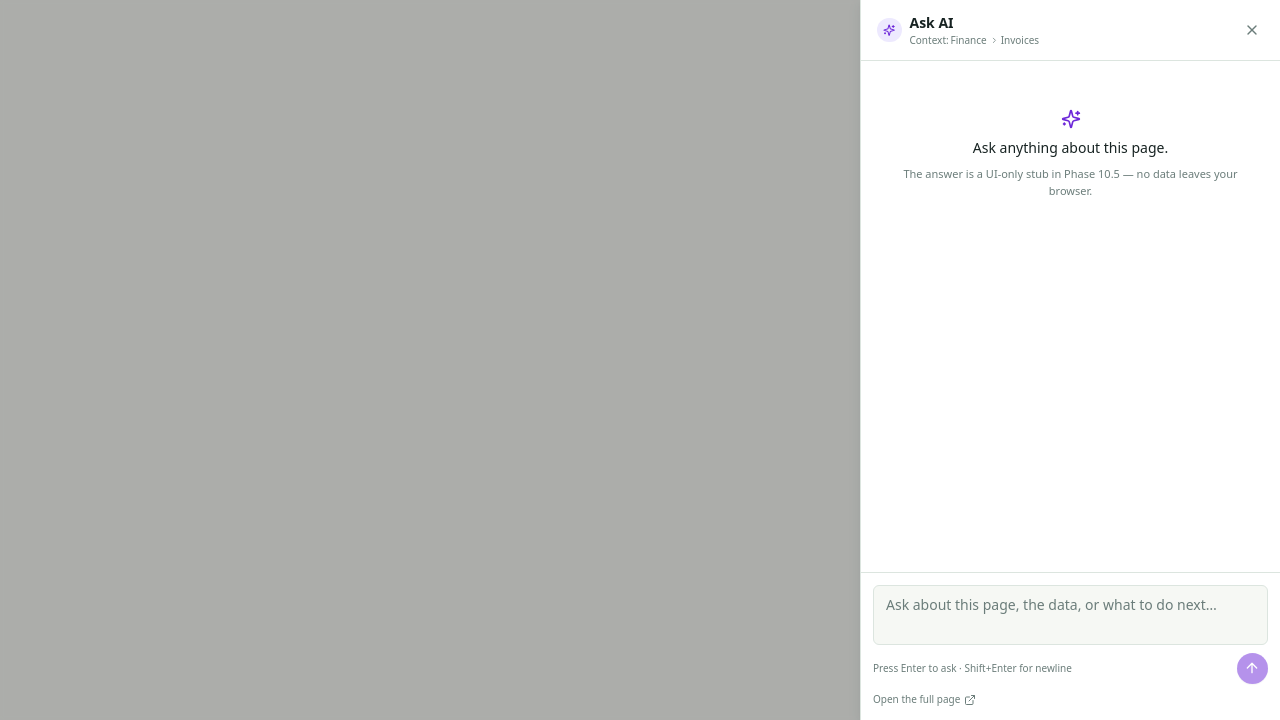
Test: AskAiPanel › streams the answer into ask-ai-answer when the user submits a question
In the text box with test id "ask-ai-input": coordinates (1070, 614) [873, 584, 1268, 644], type "test question"
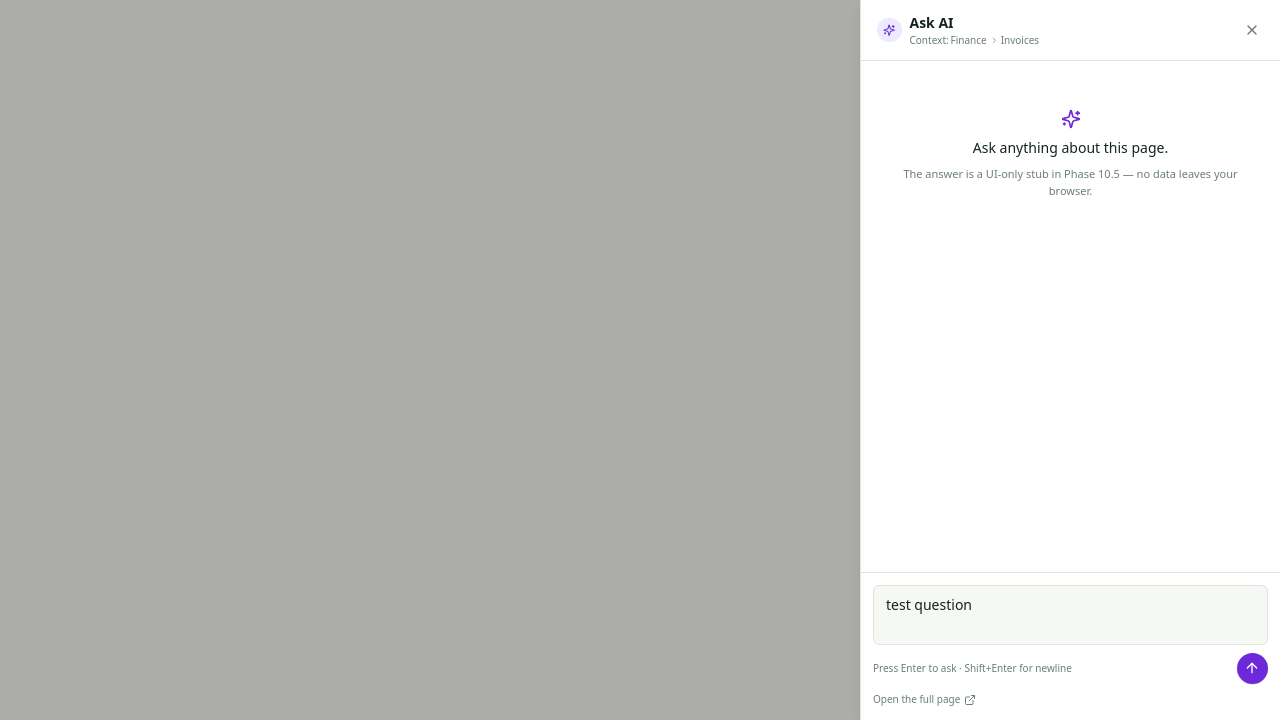
Click the button with test id "ask-ai-submit": coordinates (1252, 668) [1236, 652, 1268, 684]
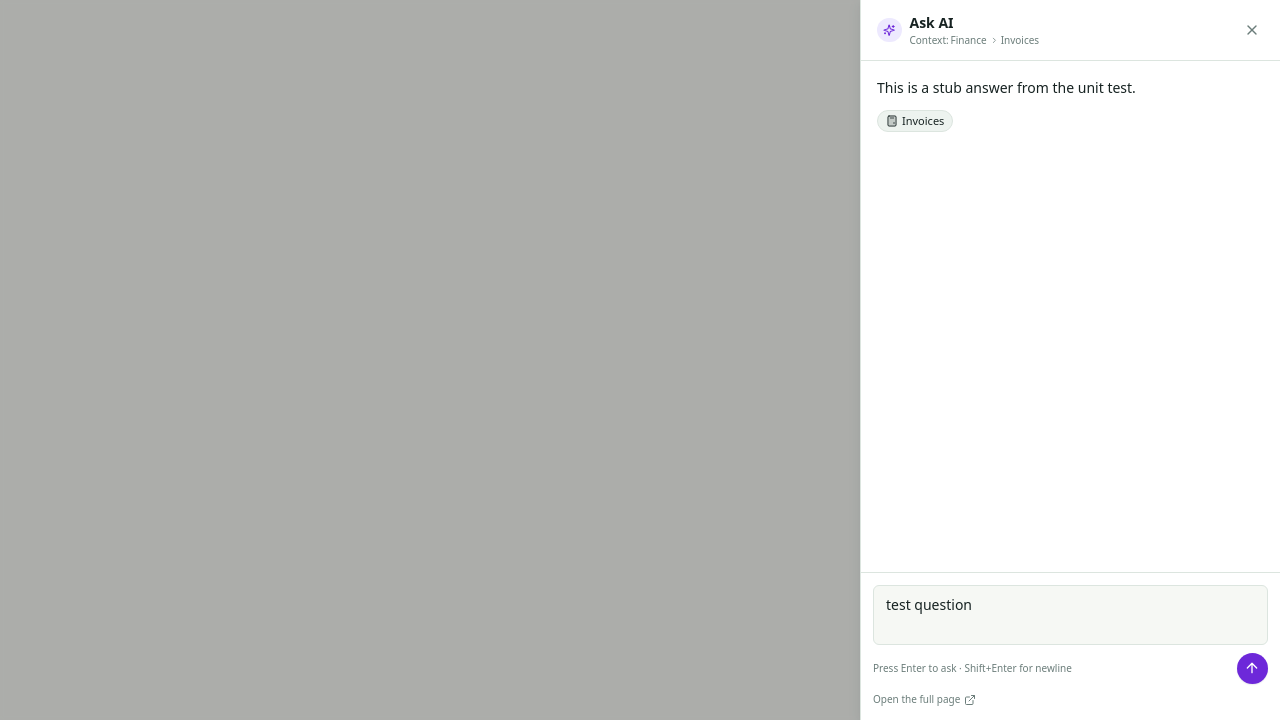
Result: the text with test id "ask-ai-answer" shows "stub answer" at [877, 78, 1136, 97]
